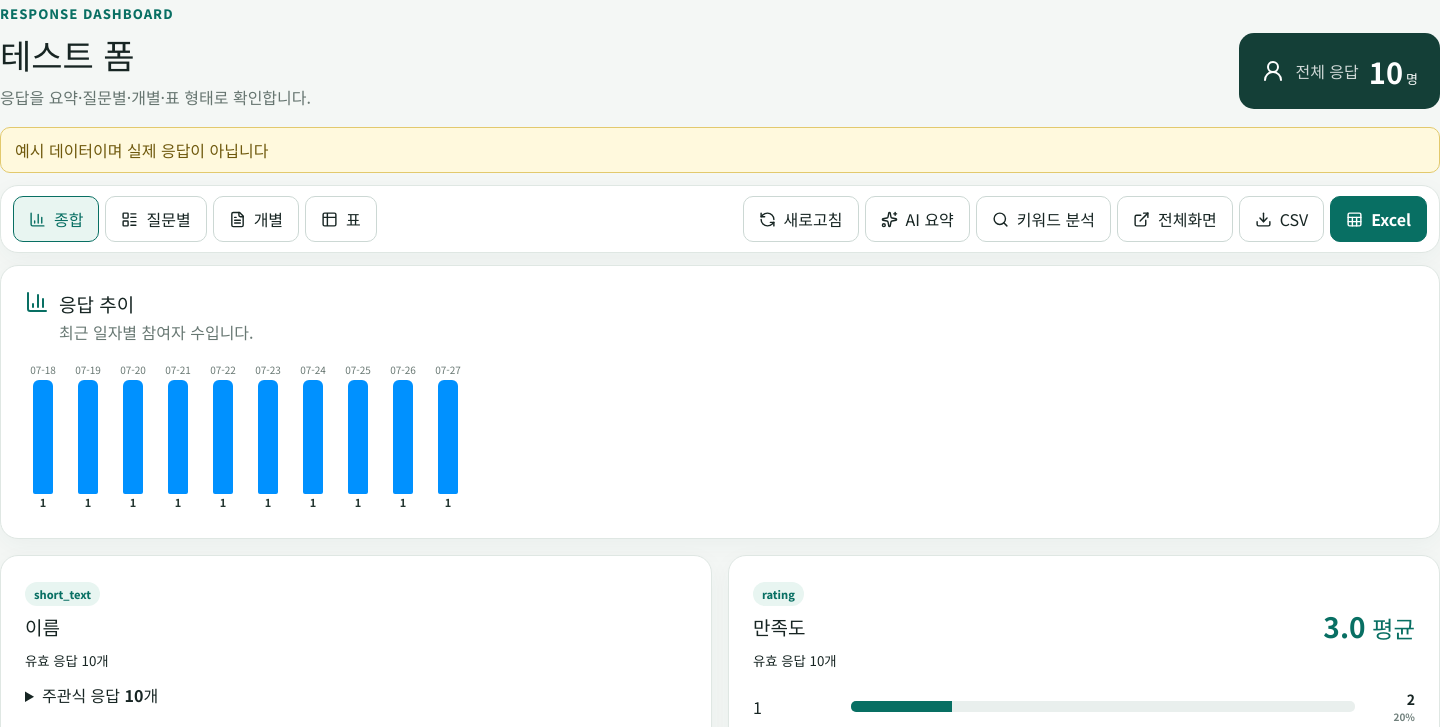
Test: ResultsDashboard › exposes all four result views, AI summary, and the sample-data warning
Check: the text "예시 데이터이며 실제 응답이 아닙니다" is shown, box x1=0 y1=127 x2=1439 y2=173
Click the button "AI 요약". click: {"x": 917, "y": 219}
box: x1=864 y1=196 x2=970 y2=242
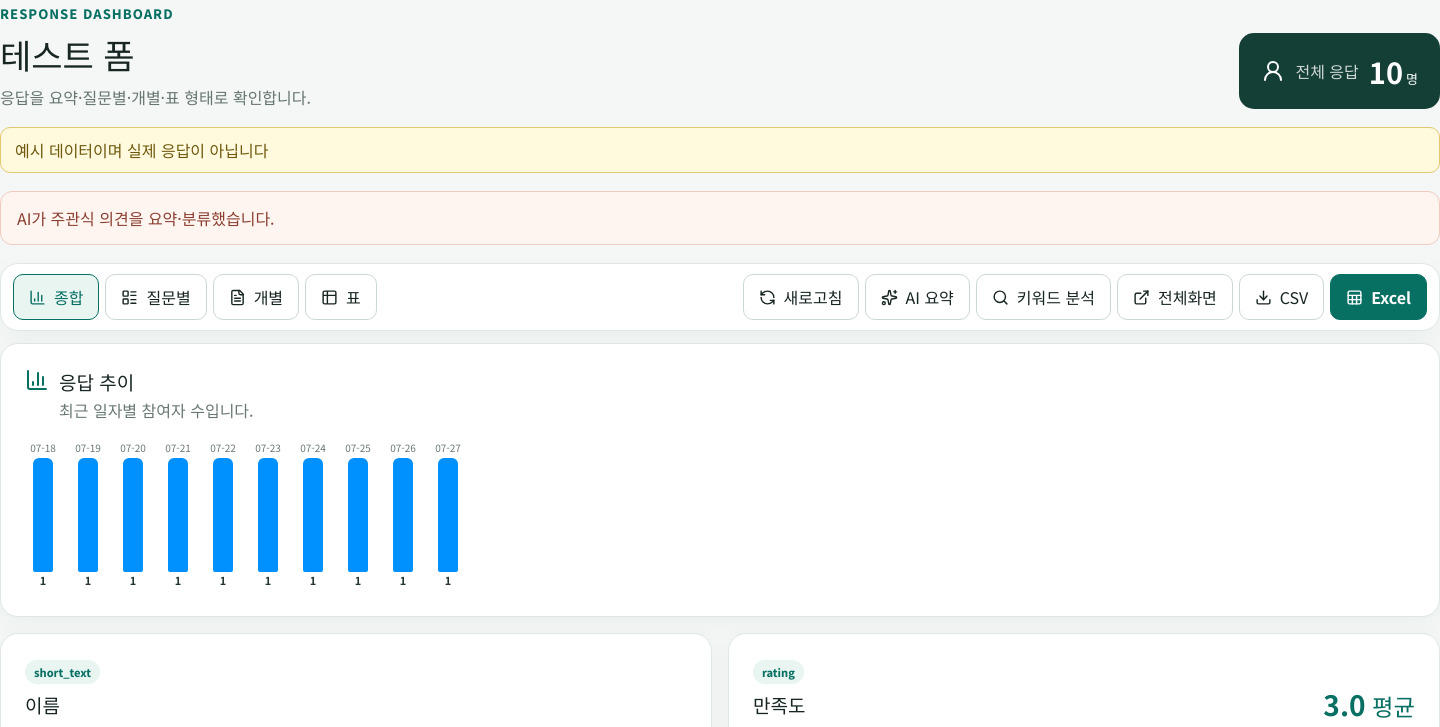
Click the tab "표". click: {"x": 341, "y": 297}
box: x1=305 y1=274 x2=377 y2=320
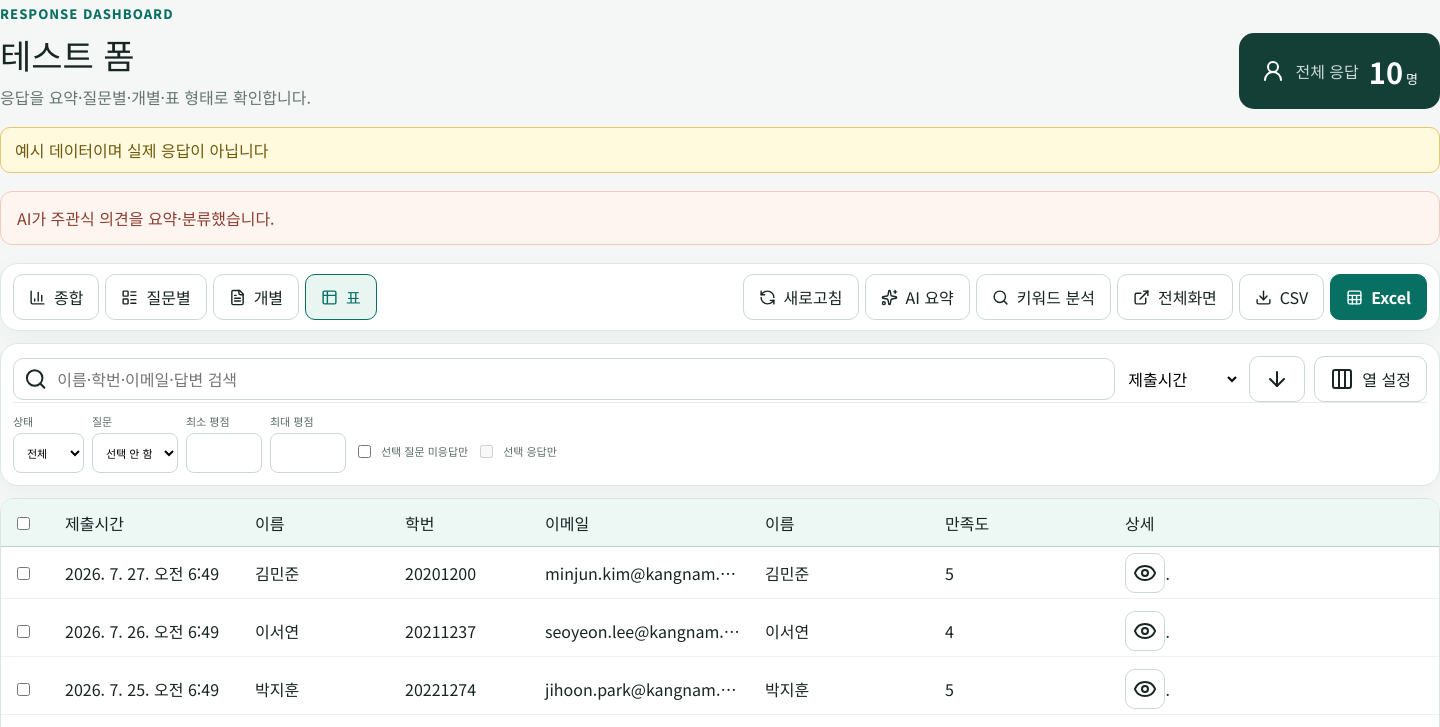
Check: the field with placeholder "이름·학번·이메일·답변 검색" is shown, box x1=55 y1=359 x2=1104 y2=399
